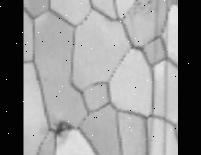good_void: (53, 119, 74, 136)
